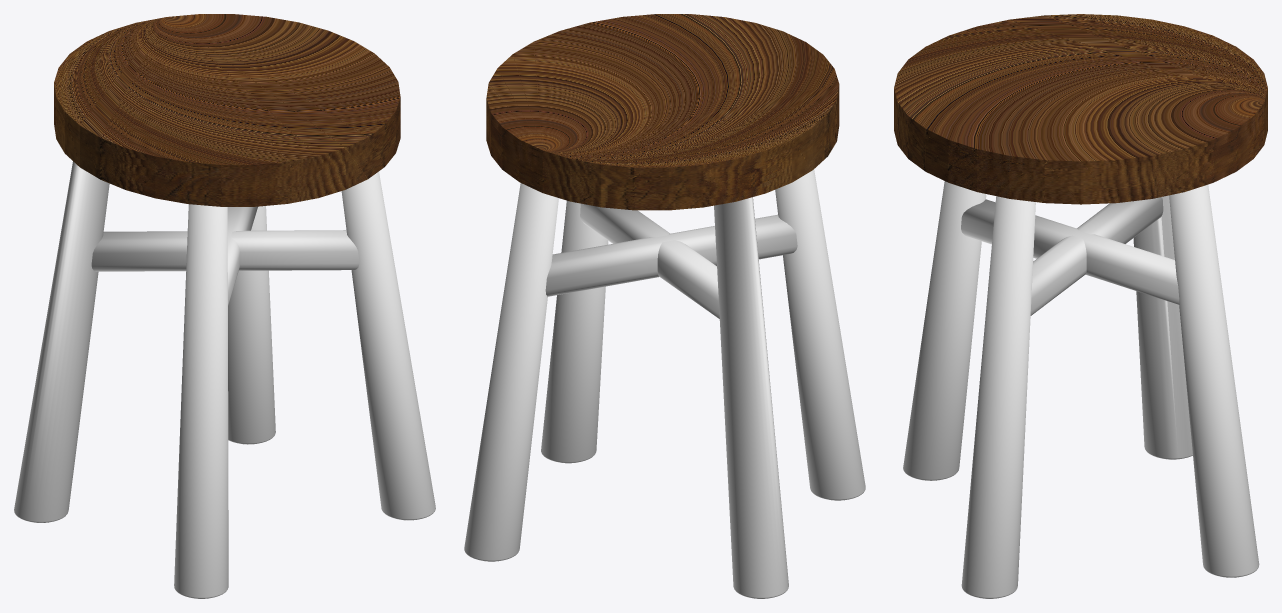
File: ghe.fbx
The picture shows the model from 3 angles, left to right: view 1: azimuth 30°, elevation 25°; view 2: azimuth 150°, elevation 25°; view 3: azimuth 270°, elevation 25°; orthographic projection. The views are drawn at different scales.
Parts seen in each view (by area): view 1: White wood Chair, Hình Trụ; view 2: White wood Chair, Hình Trụ; view 3: White wood Chair, Hình Trụ.
Boxes of the visible parts, x1,y1,x2,y2 form: White wood Chair: (14, 161, 435, 598); Hình Trụ: (54, 14, 400, 206); White wood Chair: (464, 169, 865, 598); Hình Trụ: (486, 14, 839, 210); White wood Chair: (903, 181, 1259, 598); Hình Trụ: (894, 14, 1267, 204).
Bounding box in the file's own units: 77.03 × 95.52 × 74.77.
